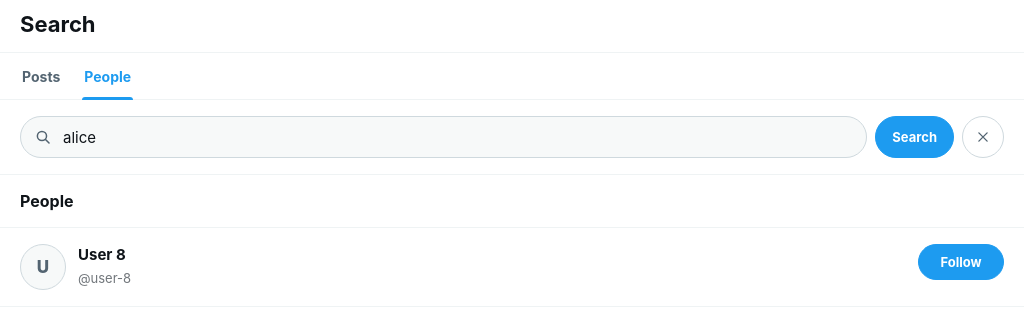
UserSearchView KeepAlive lifecycle › resets the viewport and session when the search is cleared
The width and height of the screenshot is (1024, 324).
Step 1. Click the button with class "search-view__clear" → (983, 137), box x1=962 y1=116 x2=1004 y2=158
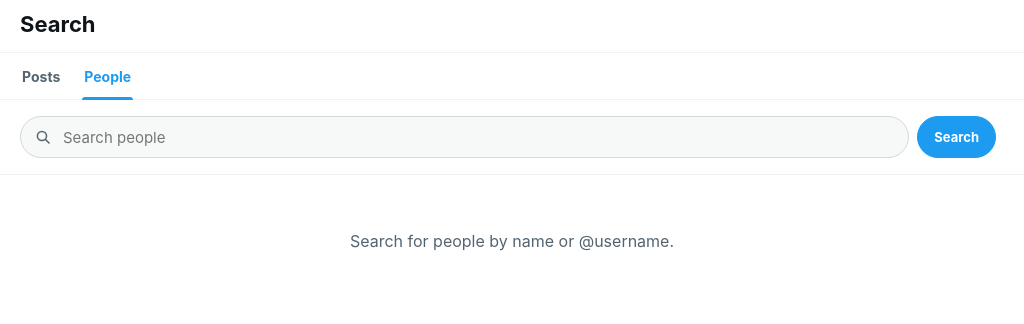
Check: the text "Search for people by name or @username." is shown, box x1=350 y1=231 x2=674 y2=251
